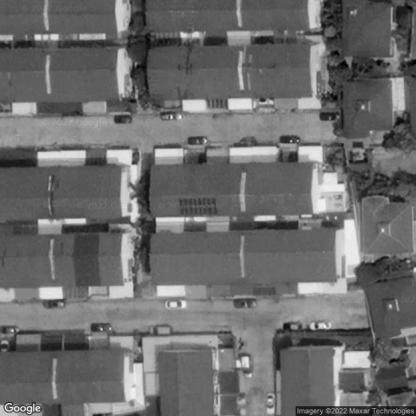solar-pv-panel: (179, 199, 219, 216)
